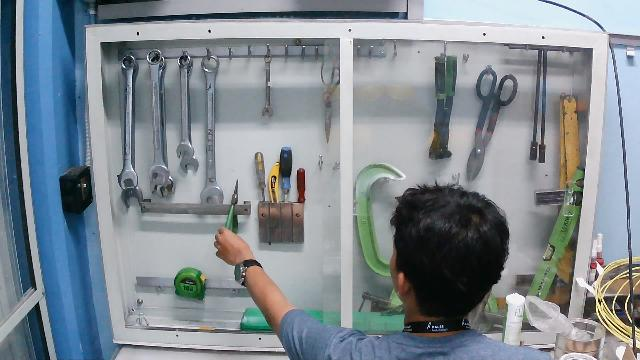tang_cucut_lancip_2: (222, 175, 243, 246)
